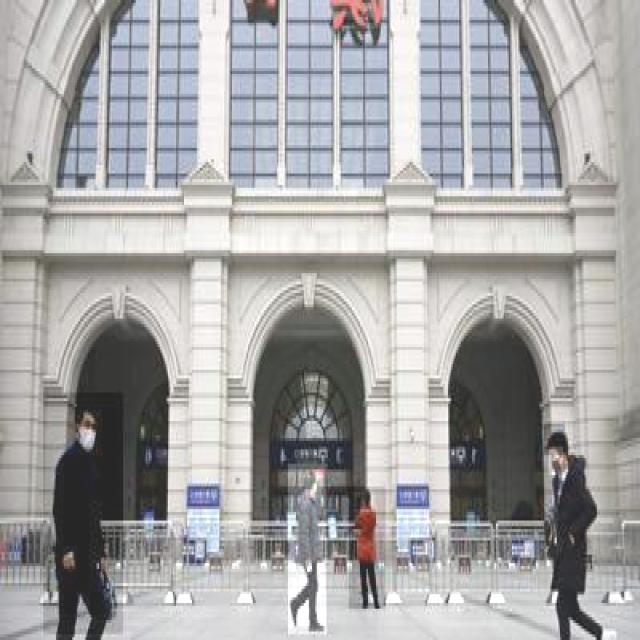face_mask: (76, 412, 98, 450), (549, 447, 563, 475)
hand_noglove: (61, 544, 78, 578)
head_nohelmet: (544, 424, 565, 455), (306, 475, 322, 498), (77, 401, 96, 415), (364, 492, 374, 509)
person: (42, 393, 123, 637), (530, 418, 604, 637), (286, 464, 326, 637), (347, 486, 386, 612)
shoes: (306, 613, 328, 636), (287, 590, 300, 627)
